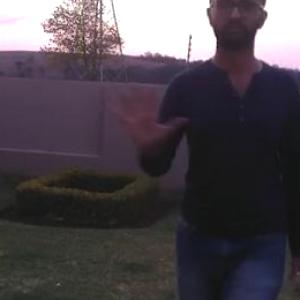follow_hand: (104, 78, 187, 152)
